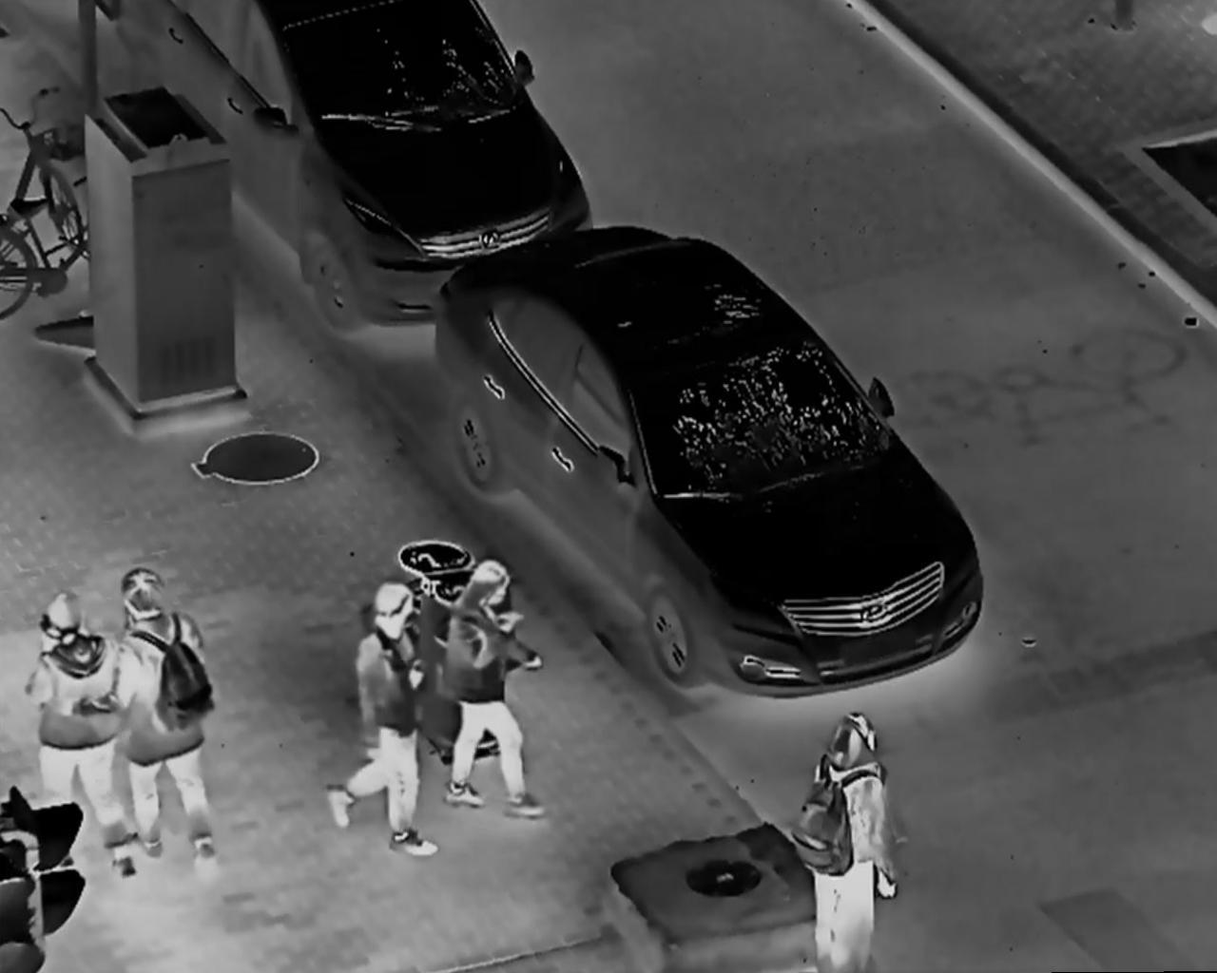person: (105, 556, 222, 860), (20, 587, 139, 873), (440, 561, 562, 826), (329, 570, 441, 856), (802, 714, 902, 973)
